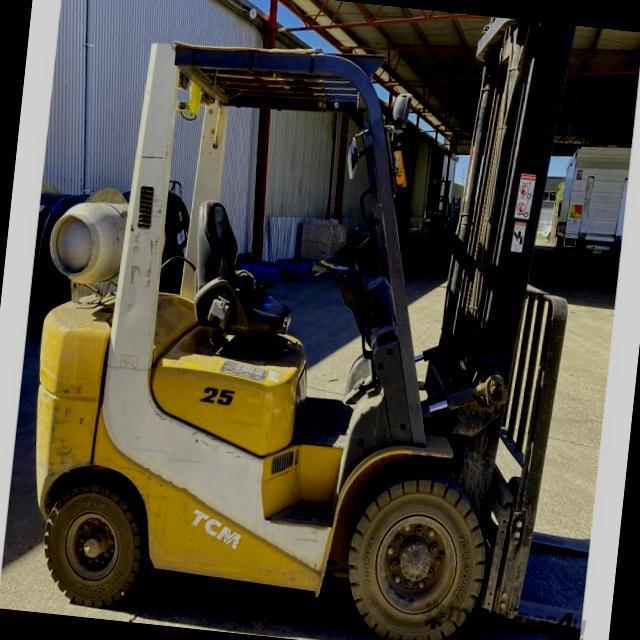forklift: (15, 0, 609, 640)
